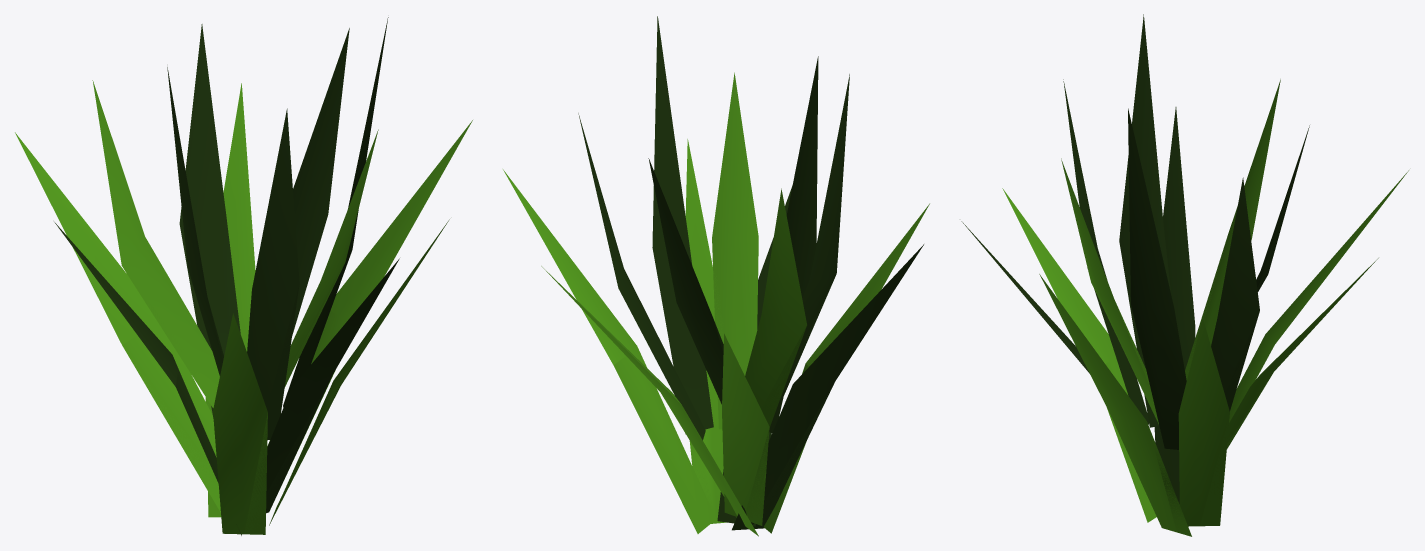
Rendered from Altar_Grass.FBX.
The picture shows the model from 3 angles, left to right: view 1: azimuth 30°, elevation 25°; view 2: azimuth 150°, elevation 25°; view 3: azimuth 270°, elevation 25°; orthographic projection. The views are drawn at different scales.
Parts seen in each view (by area): view 1: Grass_1_1; view 2: Grass_1_1; view 3: Grass_1_1.
Boxes of the visible parts, x1,y1,x2,y2 form: Grass_1_1: [15, 17, 472, 535]; Grass_1_1: [503, 16, 929, 536]; Grass_1_1: [961, 14, 1408, 536].
Size of the model in its own units: 110 by 122 by 106.
